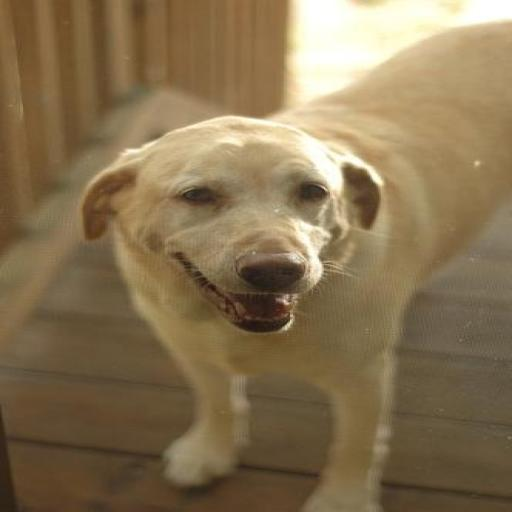dog_face: (76, 117, 376, 322)
